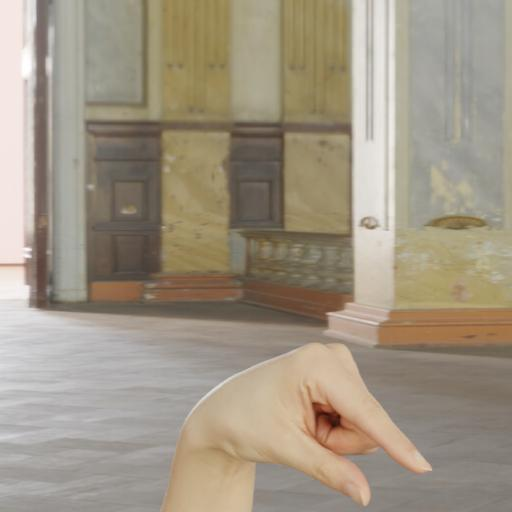Q: (162, 329, 440, 510)
